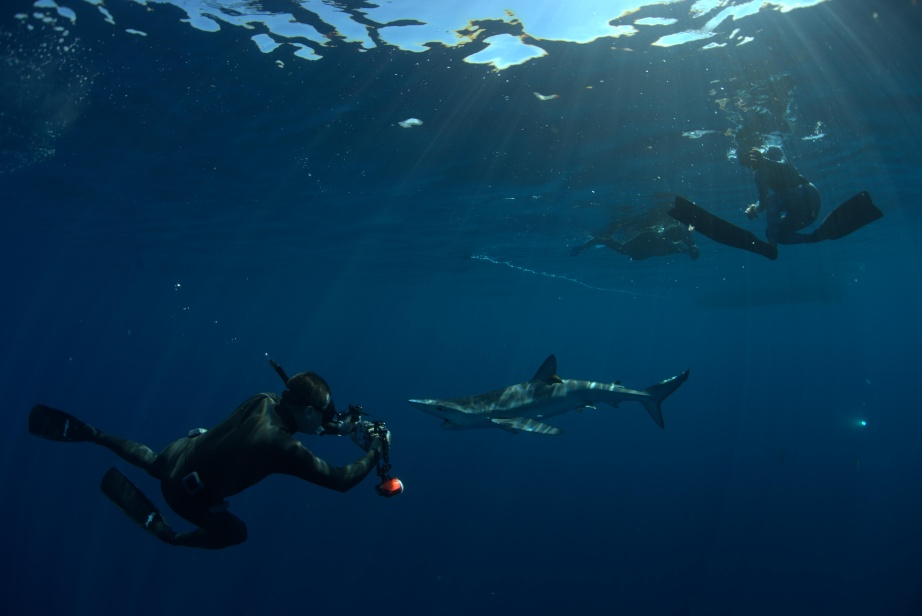Azul: (371, 308, 725, 476)
